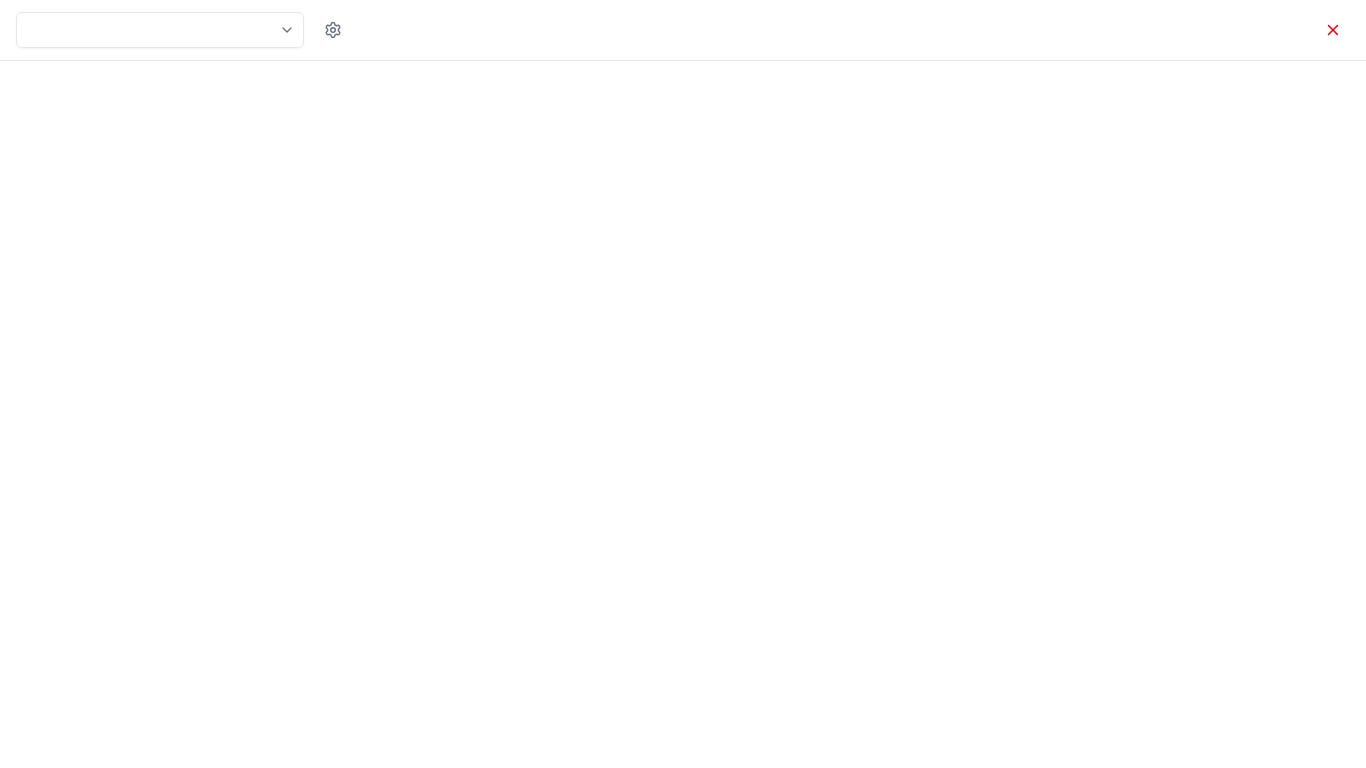
ComparisonPanel › shows the current temperature and token ceiling
Click the 2nd button: [333, 30] box [316, 13, 350, 47]
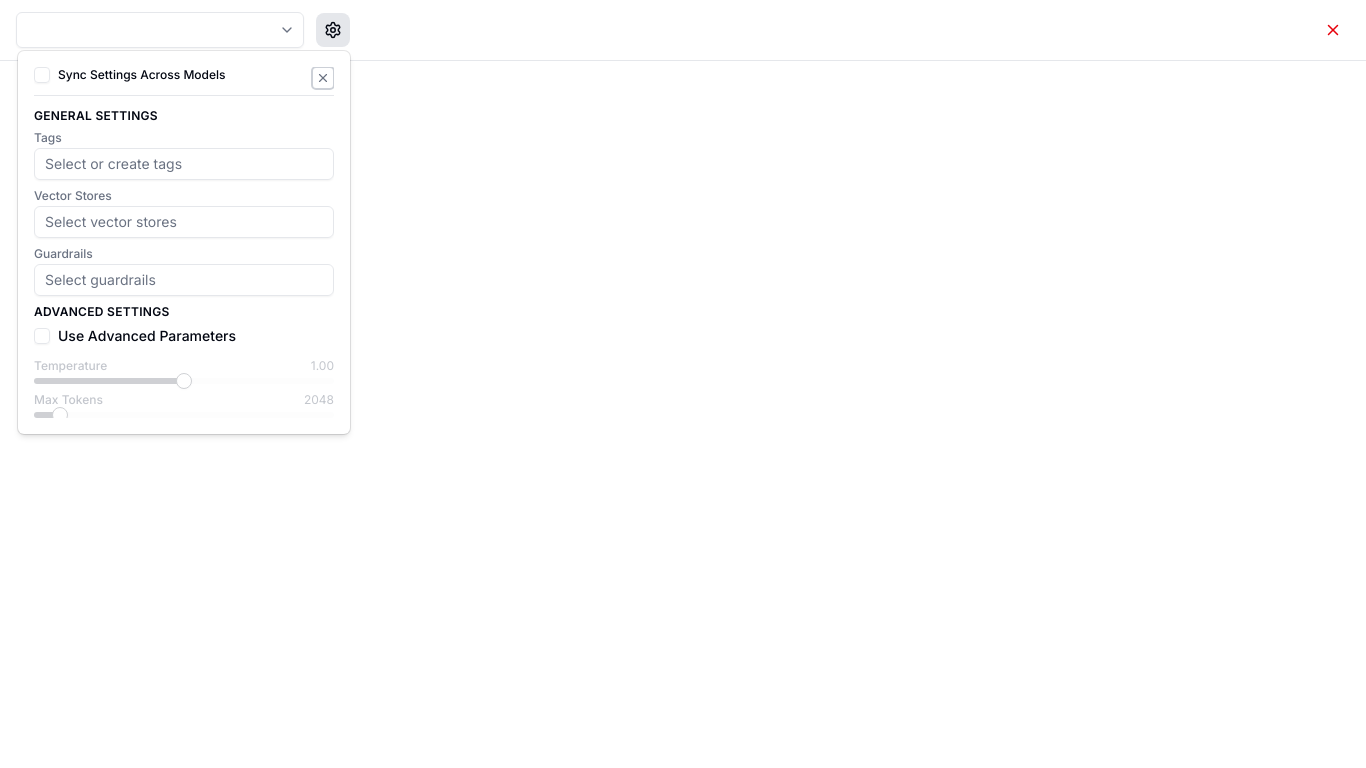
Result: the heading "General Settings" is shown at [34, 108, 158, 123]
Result: the text "Temperature" is shown at [34, 358, 107, 374]
Result: the text "1.00" is shown at [311, 358, 334, 374]
